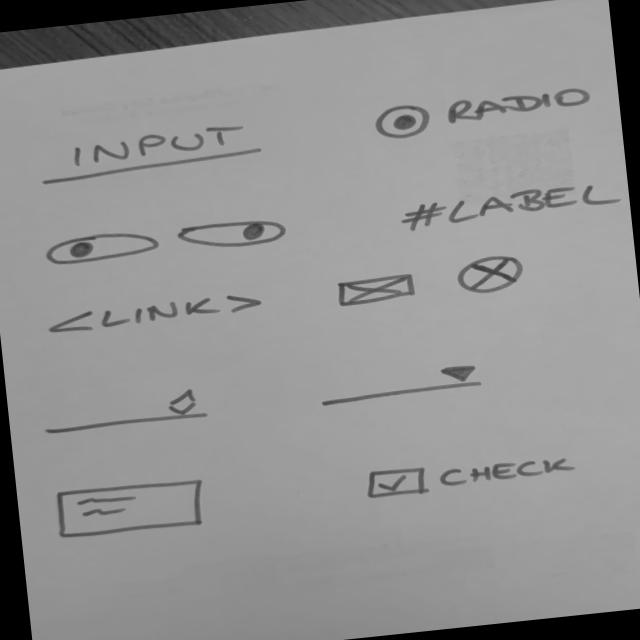checkbox: (356, 445, 584, 503)
image: (448, 250, 526, 297), (328, 270, 420, 309)
input: (32, 112, 266, 190)
label: (393, 176, 627, 235)
link: (42, 286, 270, 338)
number-input: (33, 383, 214, 438)
radio: (370, 80, 601, 145)
select: (310, 358, 487, 411)
textarea: (51, 472, 212, 544)
toggle: (170, 212, 292, 256), (43, 226, 163, 268)
